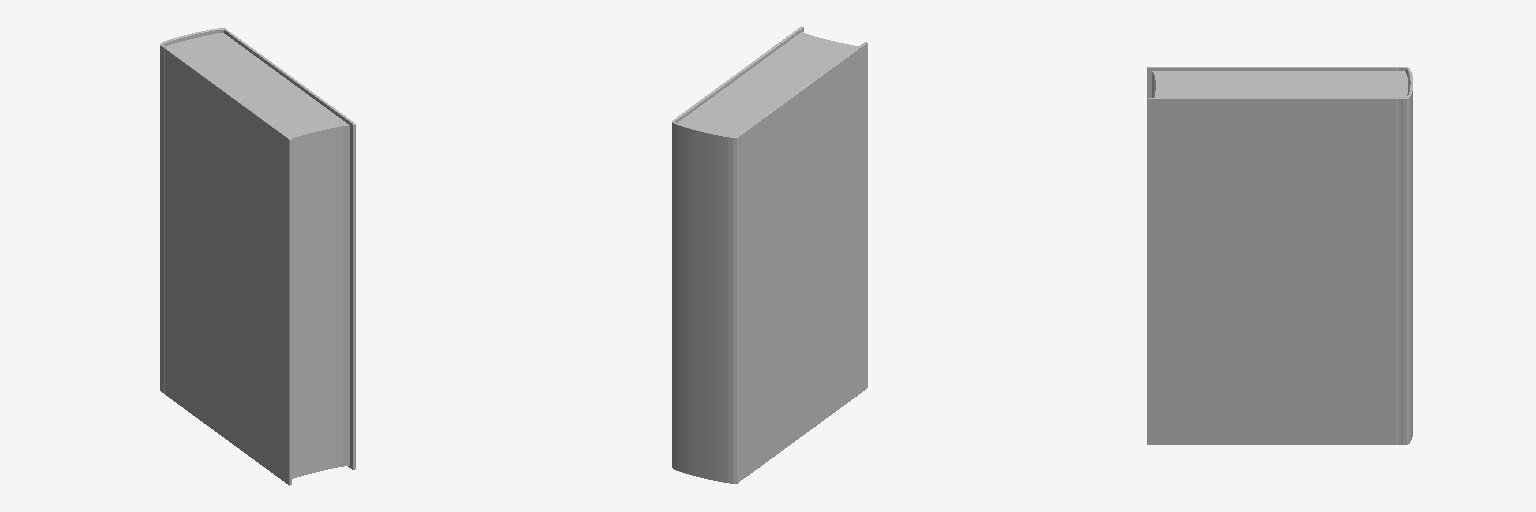
File: Book_by_Peter_Iliev_obj.obj
3 renders of one model, left to right at view 1: azimuth 30°, elevation 25°; view 2: azimuth 150°, elevation 25°; view 3: azimuth 270°, elevation 25°, orthographic.
Visible parts, largest first — view 1: Line002, Box001; view 2: Line002, Box001; view 3: Line002, Box001.
Boxes of the visible parts, x1=… form: Line002: x1=160, y1=28, x2=355, y2=485; Box001: x1=166, y1=33, x2=349, y2=478; Line002: x1=672, y1=26, x2=867, y2=483; Box001: x1=678, y1=32, x2=858, y2=135; Line002: x1=1147, y1=67, x2=1412, y2=444; Box001: x1=1152, y1=71, x2=1407, y2=97.
Size of the model in its own units: 31.38 by 157 by 109.